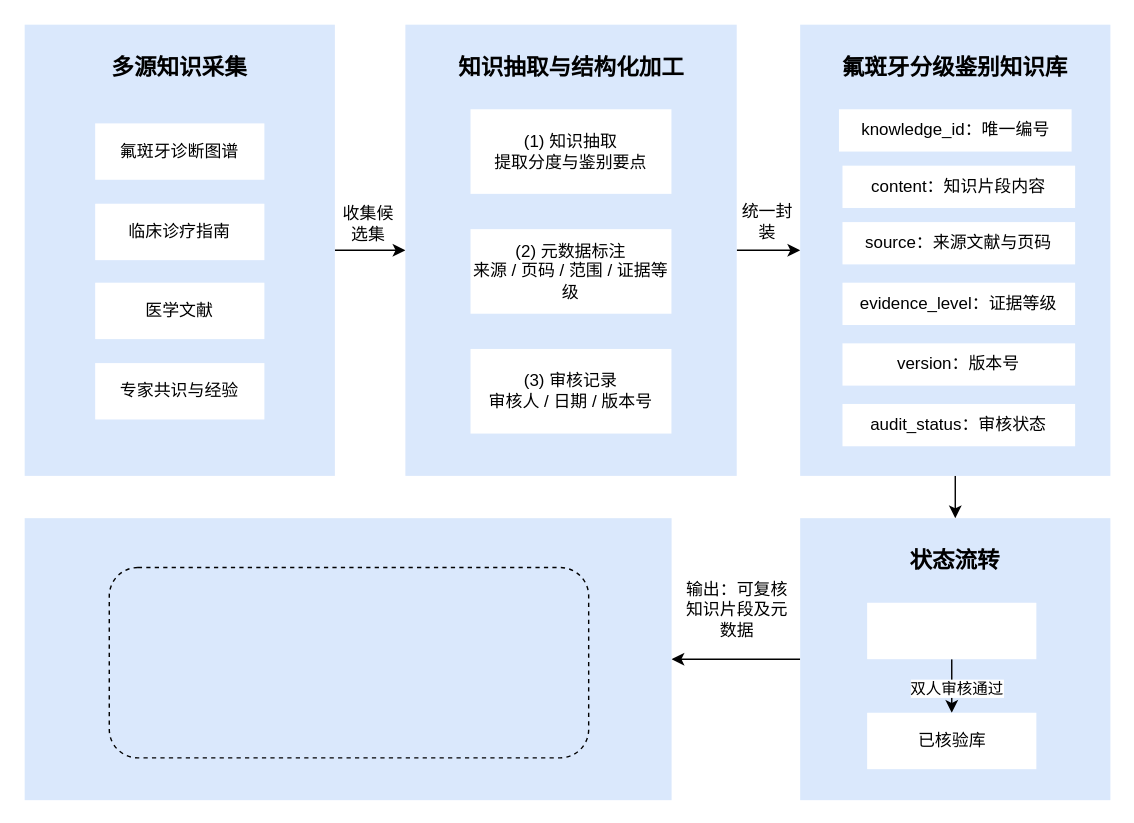
Image size: 1134x823. Some labels were removed from this diagram. Each missing label, with the centre of its shape:
"带核验池" belongs at (951,630).
"进入阶段二步骤二：视觉证据驱动检索" belongs at (348,662).
